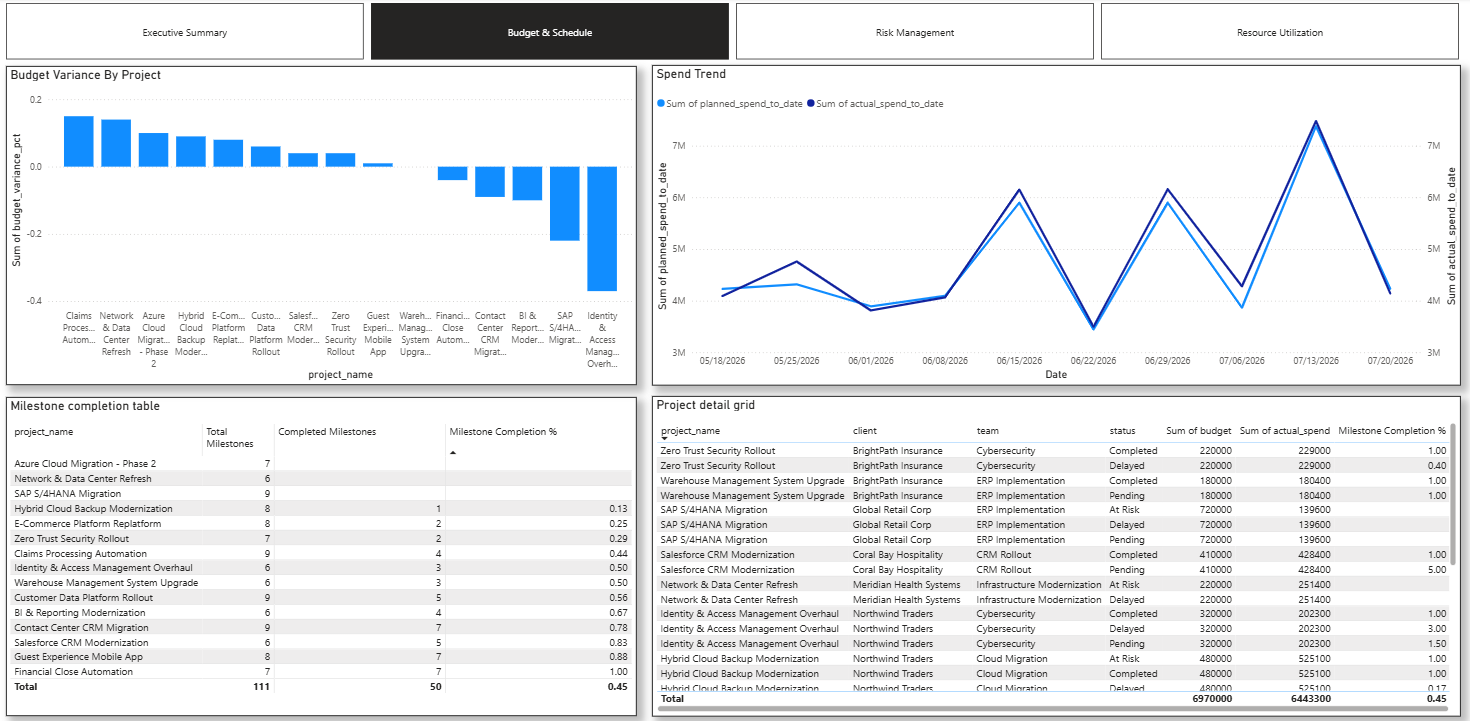

The page's visual inventory and layout, read from the dashboard file:
{"tool":"powerbi","page":{"name":"Budget & Schedule","canvas":[2000,980],"ordinal":1},"visuals":[{"type":"lineChart","title":"Spend Trend","fields":{"Y":["Sum(WeeklyStatus.planned_spend_to_date)"],"Y2":["Sum(WeeklyStatus.actual_spend_to_date)"],"Category":["Calendar.Date"]},"box":[885,90,1090,431.7],"z":0},{"type":"pivotTable","title":"Milestone completion table","fields":{"Rows":["Projects.project_name"],"Values":["_Measures.Total Milestones","_Measures.Completed Milestones","_Measures.Milestone Completion %"]},"box":[15,538.3,850,430],"z":1000},{"type":"clusteredColumnChart","title":"Budget Variance By Project","fields":{"Category":["Projects.project_name"],"Y":["Sum(Projects.budget_variance_pct)"]},"box":[15,91.7,850,430],"z":2000},{"type":"tableEx","title":"Project detail grid\t","fields":{"Values":["Projects.project_name","Projects.client","Projects.team","Milestone.status","Sum(Projects.budget)","Sum(Projects.actual_spend)","_Measures.Milestone Completion %"]},"box":[885,536.7,1090,431.7],"z":3000},{"type":"pageNavigator","box":[15,6.7,1960,76.7],"z":7000}]}

Visuals, with their boxes in screenshot pixels (x1, y1, x2, y2), scaled from the page's 2000x980 canvas onto the 1470x721 screenshot:
"Spend Trend" lineChart: {"x1": 650, "y1": 66, "x2": 1452, "y2": 384}
"Milestone completion table" pivotTable: {"x1": 11, "y1": 396, "x2": 636, "y2": 712}
"Budget Variance By Project" clusteredColumnChart: {"x1": 11, "y1": 67, "x2": 636, "y2": 384}
"Project detail grid	" tableEx: {"x1": 650, "y1": 395, "x2": 1452, "y2": 712}
pageNavigator: {"x1": 11, "y1": 5, "x2": 1452, "y2": 61}
